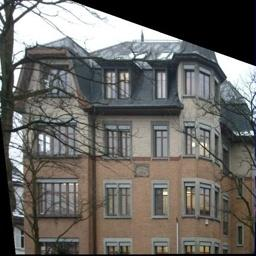building: (17, 37, 256, 256)
